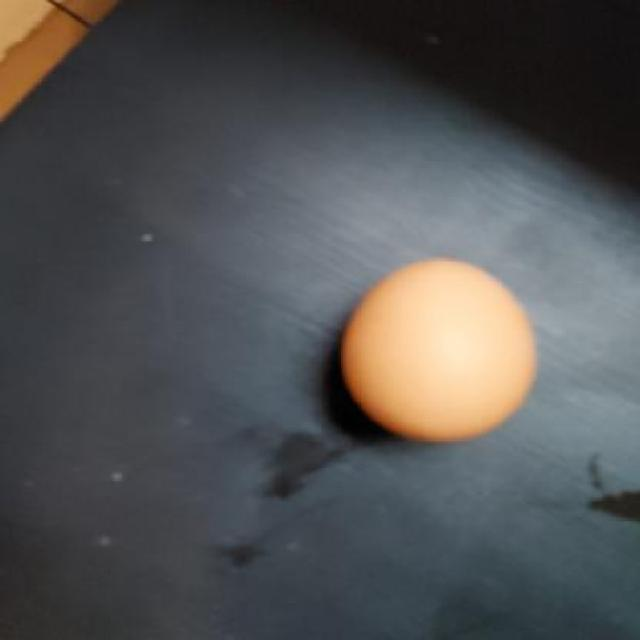biodegradable: (331, 260, 551, 446)
